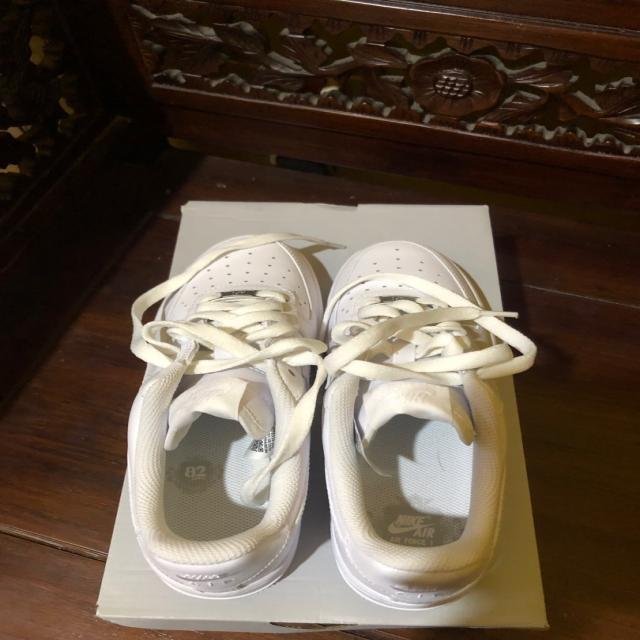nike original air force: (319, 242, 532, 610), (128, 234, 326, 597)
